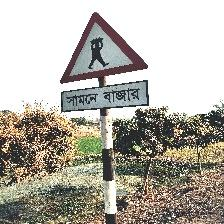Market-in-front: (59, 11, 150, 113)
